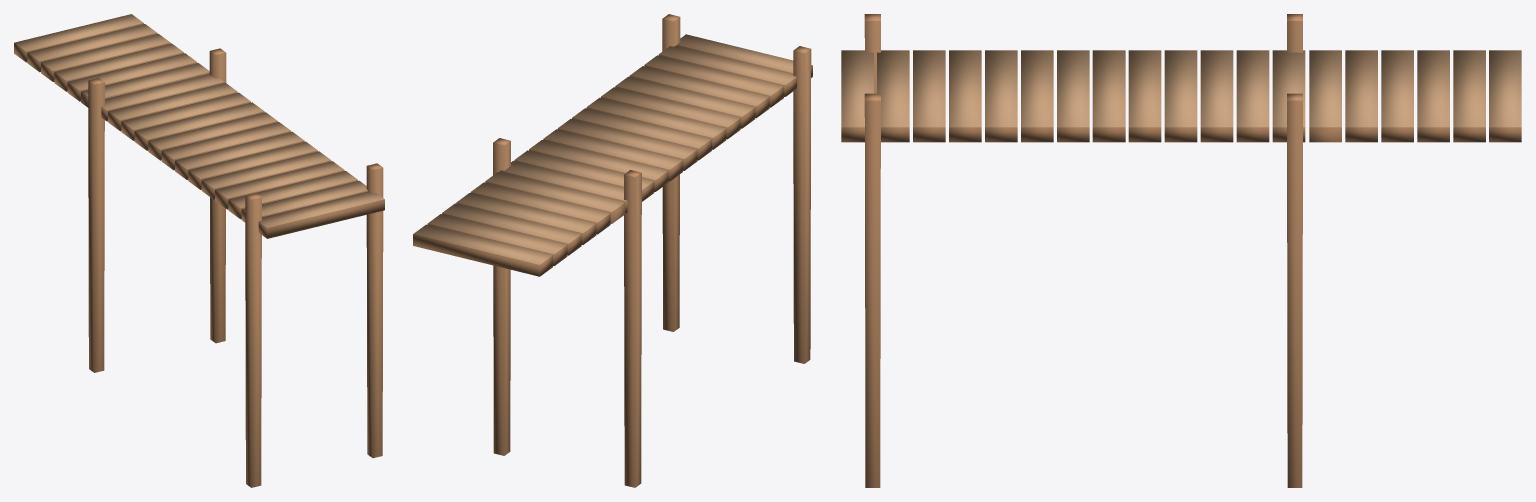
File: FBX_Dock.fbx
The picture shows the model from 3 angles, left to right: view 1: azimuth 30°, elevation 25°; view 2: azimuth 150°, elevation 25°; view 3: azimuth 270°, elevation 25°; orthographic projection. The views are drawn at different scales.
Visible parts, largest first — view 1: Dock; view 2: Dock; view 3: Dock.
Part boxes in pixels (bbox=[...]): Dock: bbox=[14, 14, 384, 487]; Dock: bbox=[413, 14, 812, 487]; Dock: bbox=[841, 14, 1521, 487].
Size of the model in its own units: 275 by 914 by 574.
